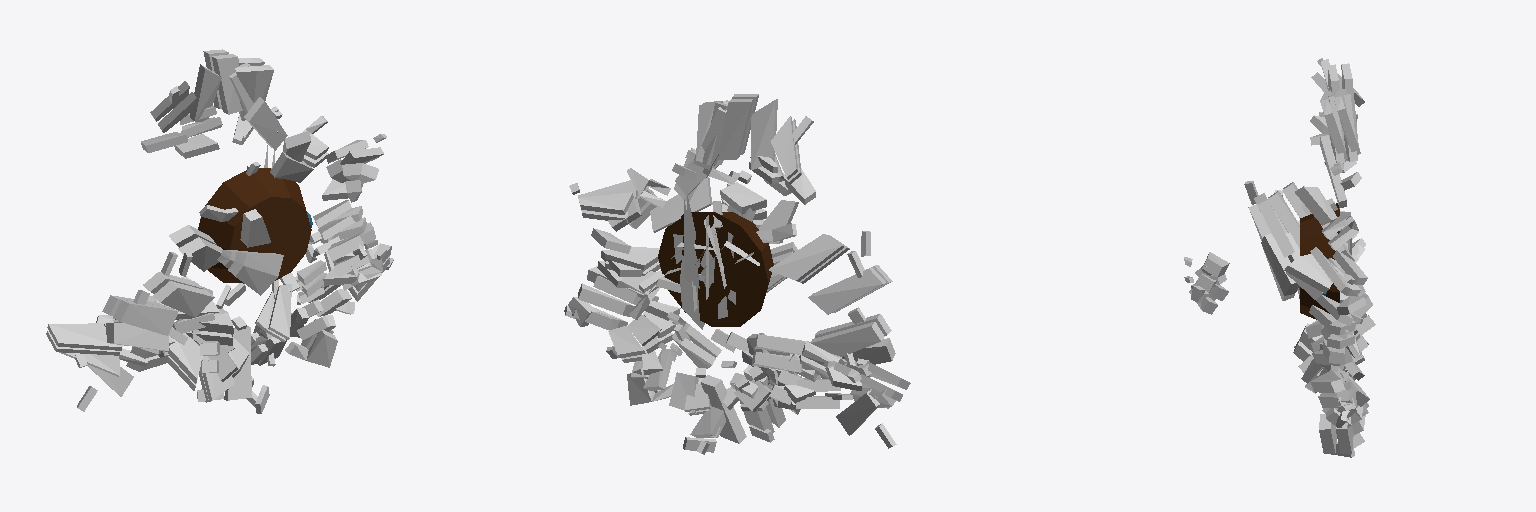
3 views of the same model, side by side, from view 1: azimuth 30°, elevation 25°; view 2: azimuth 150°, elevation 25°; view 3: azimuth 270°, elevation 25° (orthographic).
Visible parts, largest first — view 1: Cone_Cone_cover, Cone.001_Cone.001_cover, Cylinder_Cylinder_Material.001; view 2: Cone_Cone_cover, Cone.001_Cone.001_cover, Cylinder_Cylinder_Material.001, Plane_Plane_Material.003; view 3: Cone_Cone_cover, Cone.001_Cone.001_cover, Cylinder_Cylinder_Material.001.
Boxes of the visible parts, x1=… form: Cone_Cone_cover: x1=102, y1=131, x2=393, y2=413; Cone.001_Cone.001_cover: x1=46, y1=49, x2=386, y2=411; Cylinder_Cylinder_Material.001: x1=198, y1=168, x2=311, y2=283; Cone_Cone_cover: x1=564, y1=148, x2=895, y2=454; Cone.001_Cone.001_cover: x1=569, y1=94, x2=910, y2=448; Cylinder_Cylinder_Material.001: x1=658, y1=212, x2=773, y2=326; Plane_Plane_Material.003: x1=665, y1=195, x2=759, y2=329; Cone_Cone_cover: x1=1184, y1=182, x2=1375, y2=457; Cone.001_Cone.001_cover: x1=1191, y1=58, x2=1368, y2=407; Cylinder_Cylinder_Material.001: x1=1300, y1=203, x2=1339, y2=319.
Bounding box in the file's own units: 3.42 × 3.53 × 1.67.
4 materials, 1 textured.